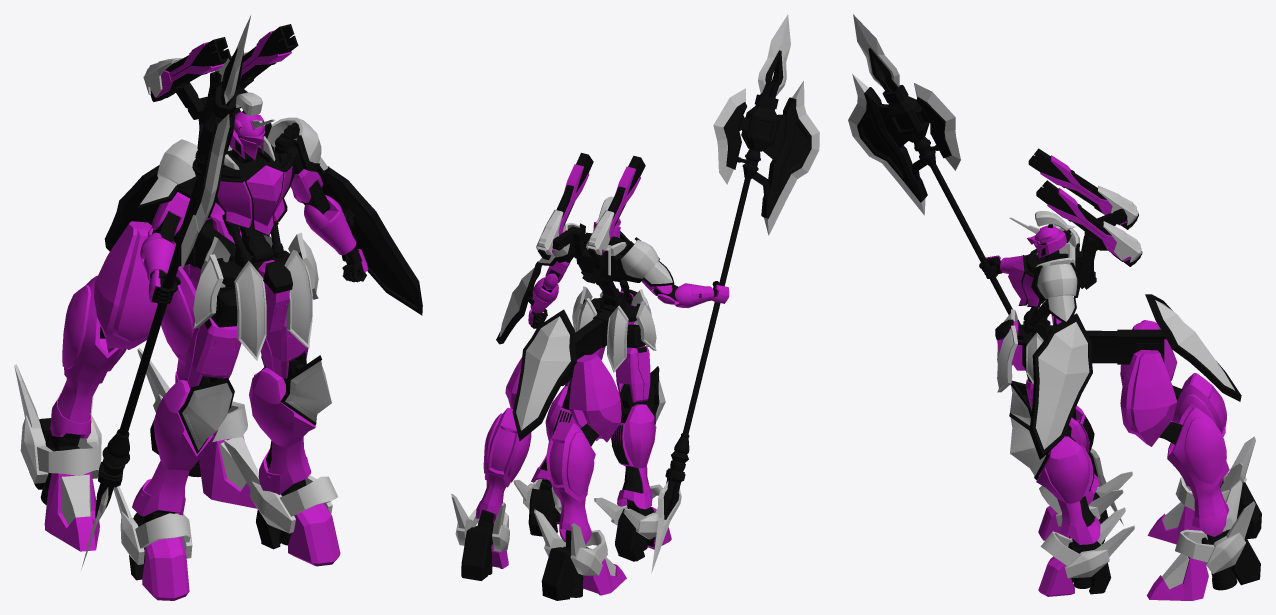
Rendered from Knight_Equipo1.fbx.
The picture shows the model from 3 angles, left to right: view 1: azimuth 30°, elevation 25°; view 2: azimuth 150°, elevation 25°; view 3: azimuth 270°, elevation 25°; orthographic projection. The views are drawn at different scales.
Parts seen in each view (by area): view 1: MangoHacha, Knight_Shield_Exterior (×2), Knight_Leg_Back_Tibia_Der, Knight_Leg_Back_Muslo_Der, Knight_Leg_Front_Tibia_IZQ, Knight_Leg_Front_Tibia_DER, Knight_Leg_Back_Tobillo_Armor_Der, Knight_Leg_Front_Tobillo_Armor_IZQ, Knight_Leg_Front_Muslo_Main_DER, Knight_BackPack_Weapon_Piece_inner (×2), Knight_Leg_Front_Pie_Front_Armor_DER, Knight_Leg_Front_Tobillo_Armor_DER (+37 smaller); view 2: MangoHacha, Knight_Shield_Inner (×2), Knight_Leg_Back_Tibia_Der, Knight_Leg_Back_Muslo_Der, Knight_Leg_Front_Tibia_DER, Knight_Leg_Back_Tibia_Izq, Knight_Shield_Exterior (×2), Knight_Leg_Back_Tobillo_Armor_Der, Knight_Waist_Main, Knight_Leg_Back_Pie_Armor_Back_Der, Hacha-Laser_der, Knight_Leg_Front_Muslo_Main_DER (+18 smaller); view 3: MangoHacha, Knight_Shield_Inner (×2), Knight_Leg_Back_Tibia_Izq, Knight_Leg_Front_Tibia_IZQ, Knight_Leg_Back_Muslo_Izq, Knight_Shield_Exterior (×2), Knight_Leg_Back_Tobillo_Armor_Izq, Knight_Waist_Main, Knight_Leg_Front_Tobillo_Armor_IZQ, Knight_BackPack_Weapon_Piece_inner (×2), Knight_BackPack_Weapon_Piece_Mid (×2), Knight_Leg_Back_Tibia_Der (+17 smaller).
Part boxes in pixels (bbox=[...]): MangoHacha: bbox=[95, 48, 243, 518]; Knight_Shield_Exterior (×2): bbox=[104, 165, 422, 315]; Knight_Leg_Back_Tibia_Der: bbox=[50, 275, 126, 438]; Knight_Leg_Back_Muslo_Der: bbox=[94, 221, 157, 349]; Knight_Leg_Front_Tibia_IZQ: bbox=[249, 367, 315, 494]; Knight_Leg_Front_Tibia_DER: bbox=[132, 380, 218, 516]; Knight_Leg_Back_Tobillo_Armor_Der: bbox=[14, 364, 101, 483]; Knight_Leg_Front_Tobillo_Armor_IZQ: bbox=[224, 439, 337, 533]; Knight_Leg_Front_Muslo_Main_DER: bbox=[184, 317, 241, 388]; Knight_BackPack_Weapon_Piece_inner (×2): bbox=[150, 24, 298, 101]; Knight_Leg_Front_Pie_Front_Armor_DER: bbox=[142, 537, 189, 600]; Knight_Leg_Front_Tobillo_Armor_DER: bbox=[113, 486, 192, 564]; MangoHacha: bbox=[663, 50, 811, 519]; Knight_Shield_Inner (×2): bbox=[499, 268, 570, 430]; Knight_Leg_Back_Tibia_Der: bbox=[546, 421, 595, 544]; Knight_Leg_Back_Muslo_Der: bbox=[569, 354, 621, 442]; Knight_Leg_Front_Tibia_DER: bbox=[611, 404, 656, 509]; Knight_Leg_Back_Tibia_Izq: bbox=[475, 407, 531, 523]; Knight_Shield_Exterior (×2): bbox=[496, 261, 576, 440]; Knight_Leg_Back_Tobillo_Armor_Der: bbox=[534, 509, 607, 575]; Knight_Waist_Main: bbox=[561, 298, 640, 386]; Knight_Leg_Back_Pie_Armor_Back_Der: bbox=[541, 547, 575, 600]; Hacha-Laser_der: bbox=[764, 81, 819, 235]; Knight_Leg_Front_Muslo_Main_DER: bbox=[615, 346, 650, 402]; MangoHacha: bbox=[857, 48, 1097, 476]; Knight_Shield_Inner (×2): bbox=[1035, 300, 1234, 449]; Knight_Leg_Back_Tibia_Izq: bbox=[1167, 403, 1229, 536]; Knight_Leg_Front_Tibia_IZQ: bbox=[1036, 436, 1100, 544]; Knight_Leg_Back_Muslo_Izq: bbox=[1120, 350, 1177, 446]; Knight_Shield_Exterior (×2): bbox=[1029, 294, 1241, 459]; Knight_Leg_Back_Tobillo_Armor_Izq: bbox=[1175, 480, 1255, 573]; Knight_Waist_Main: bbox=[1017, 320, 1166, 367]; Knight_Leg_Front_Tobillo_Armor_IZQ: bbox=[1040, 507, 1134, 578]; Knight_BackPack_Weapon_Piece_inner (×2): bbox=[1028, 148, 1142, 266]; Knight_BackPack_Weapon_Piece_Mid (×2): bbox=[1040, 155, 1131, 261]; Knight_Leg_Back_Tibia_Der: bbox=[1171, 373, 1229, 487].
Size of the model in its own units: 1210 by 2318 by 1716.
